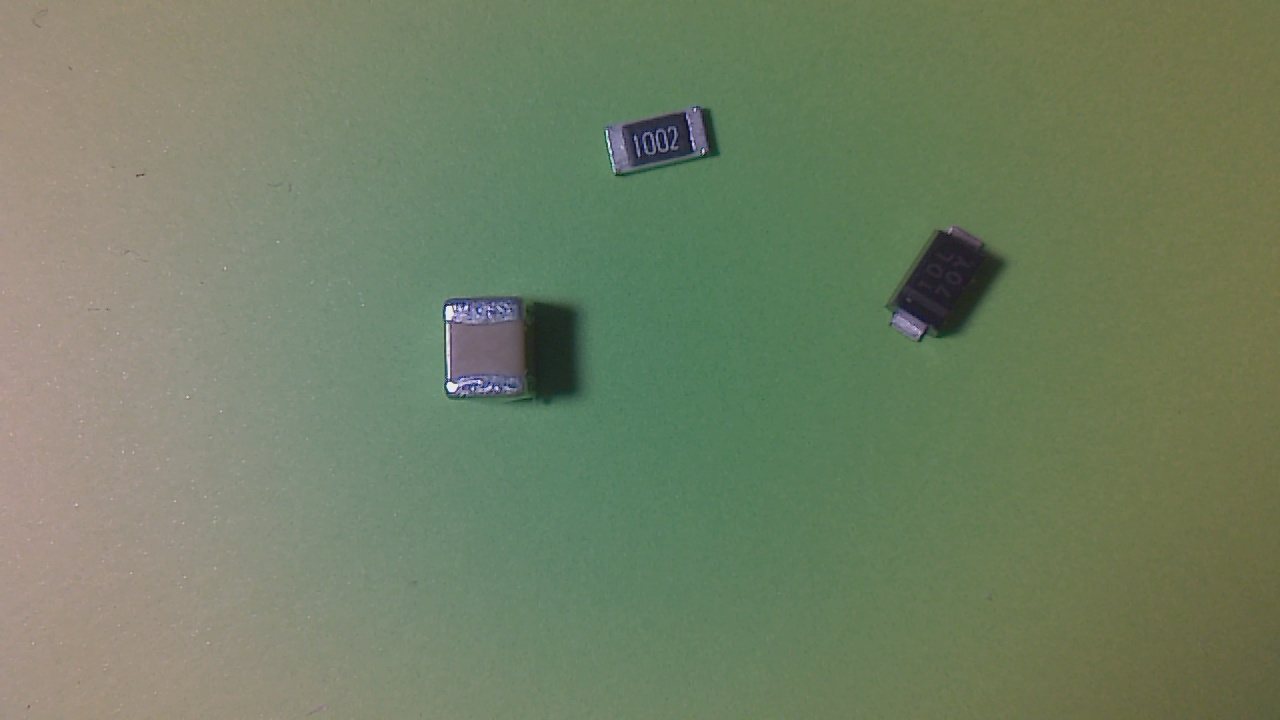Condensator: (447, 298, 534, 410)
Diode: (889, 231, 996, 349)
Resistor: (607, 108, 720, 183)
